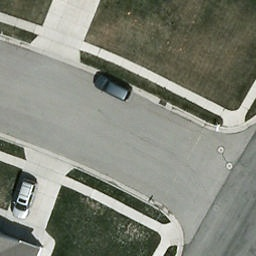car: (10, 177, 38, 221), (93, 73, 132, 102)
